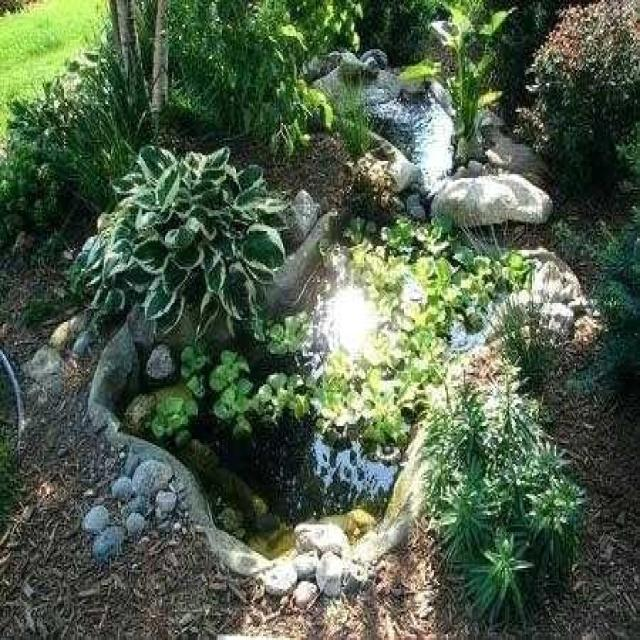Ponds: (88, 50, 594, 608)
